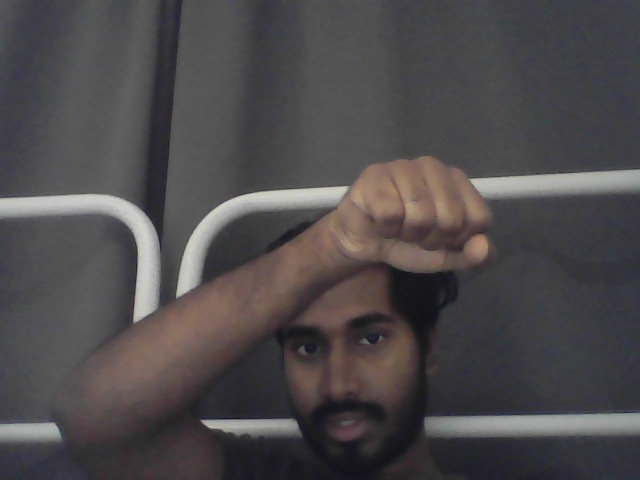yes: (339, 156, 495, 284)
